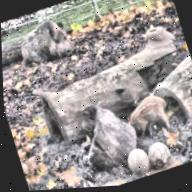boar: (10, 13, 84, 73), (121, 88, 180, 140)
